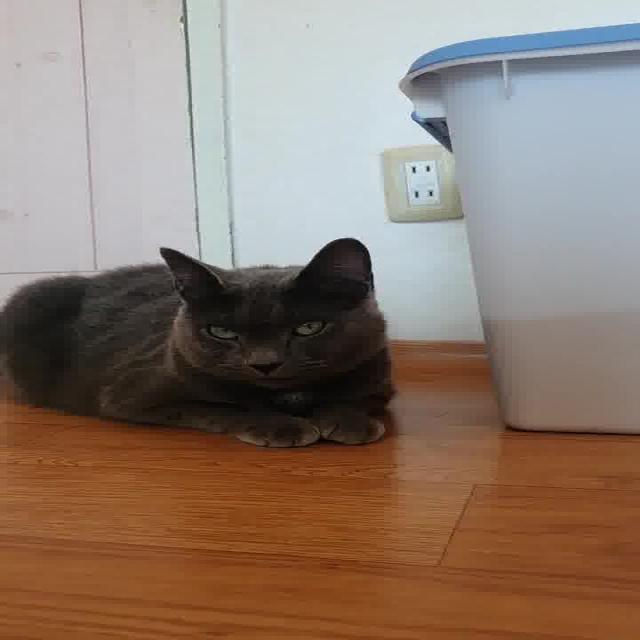cat: (0, 234, 453, 461)
